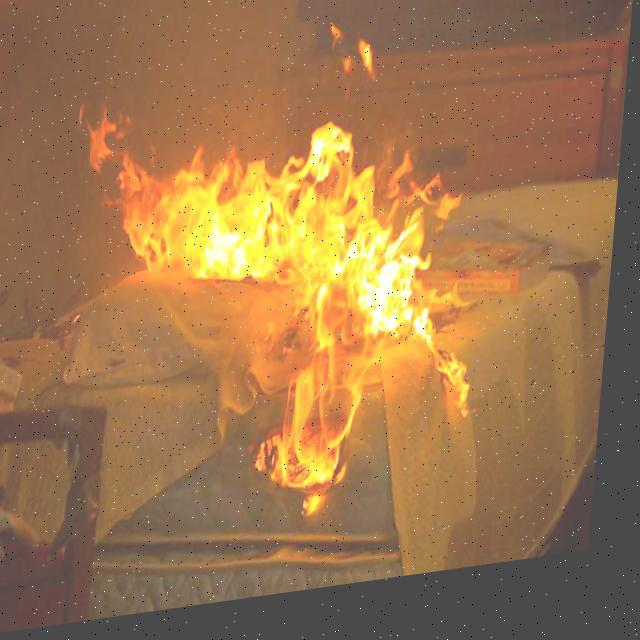Fire: (46, 52, 518, 546)
